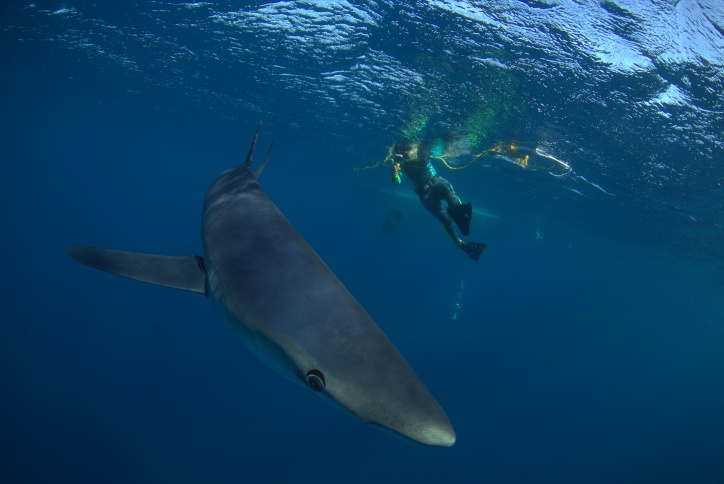Azul: (60, 120, 484, 465)
